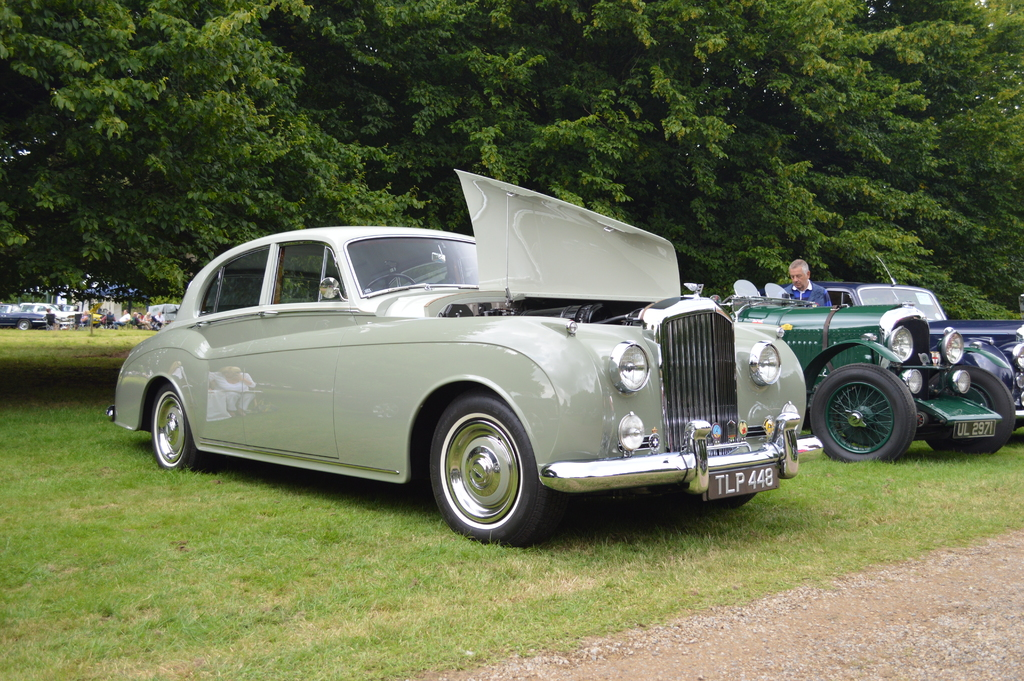Car: (111, 169, 821, 544), (723, 298, 1016, 461), (784, 254, 1024, 425), (0, 303, 47, 329)
